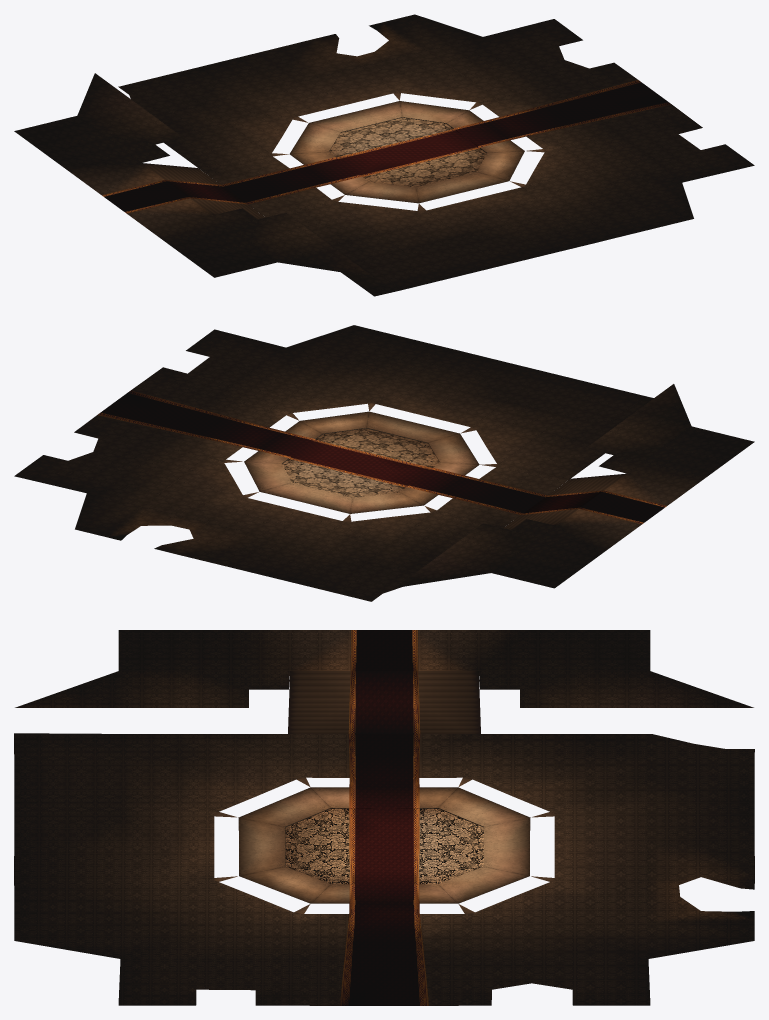
Rendered from test-floor.glb.
The picture shows the model from 3 angles, top to bottom: view 1: azimuth 30°, elevation 25°; view 2: azimuth 150°, elevation 25°; view 3: azimuth 270°, elevation 25°; orthographic projection. The views are drawn at different scales.
Parts seen in each view (by area): view 1: floor; view 2: floor; view 3: floor.
Boxes of the visible parts, left/top/right/bottom form: floor: left=14, top=14, right=754, bottom=296; floor: left=14, top=325, right=754, bottom=601; floor: left=14, top=630, right=754, bottom=1005.
Size of what is drawn, in the model's own units: 330 by 11.86 by 295.
8 materials, 7 textured.
